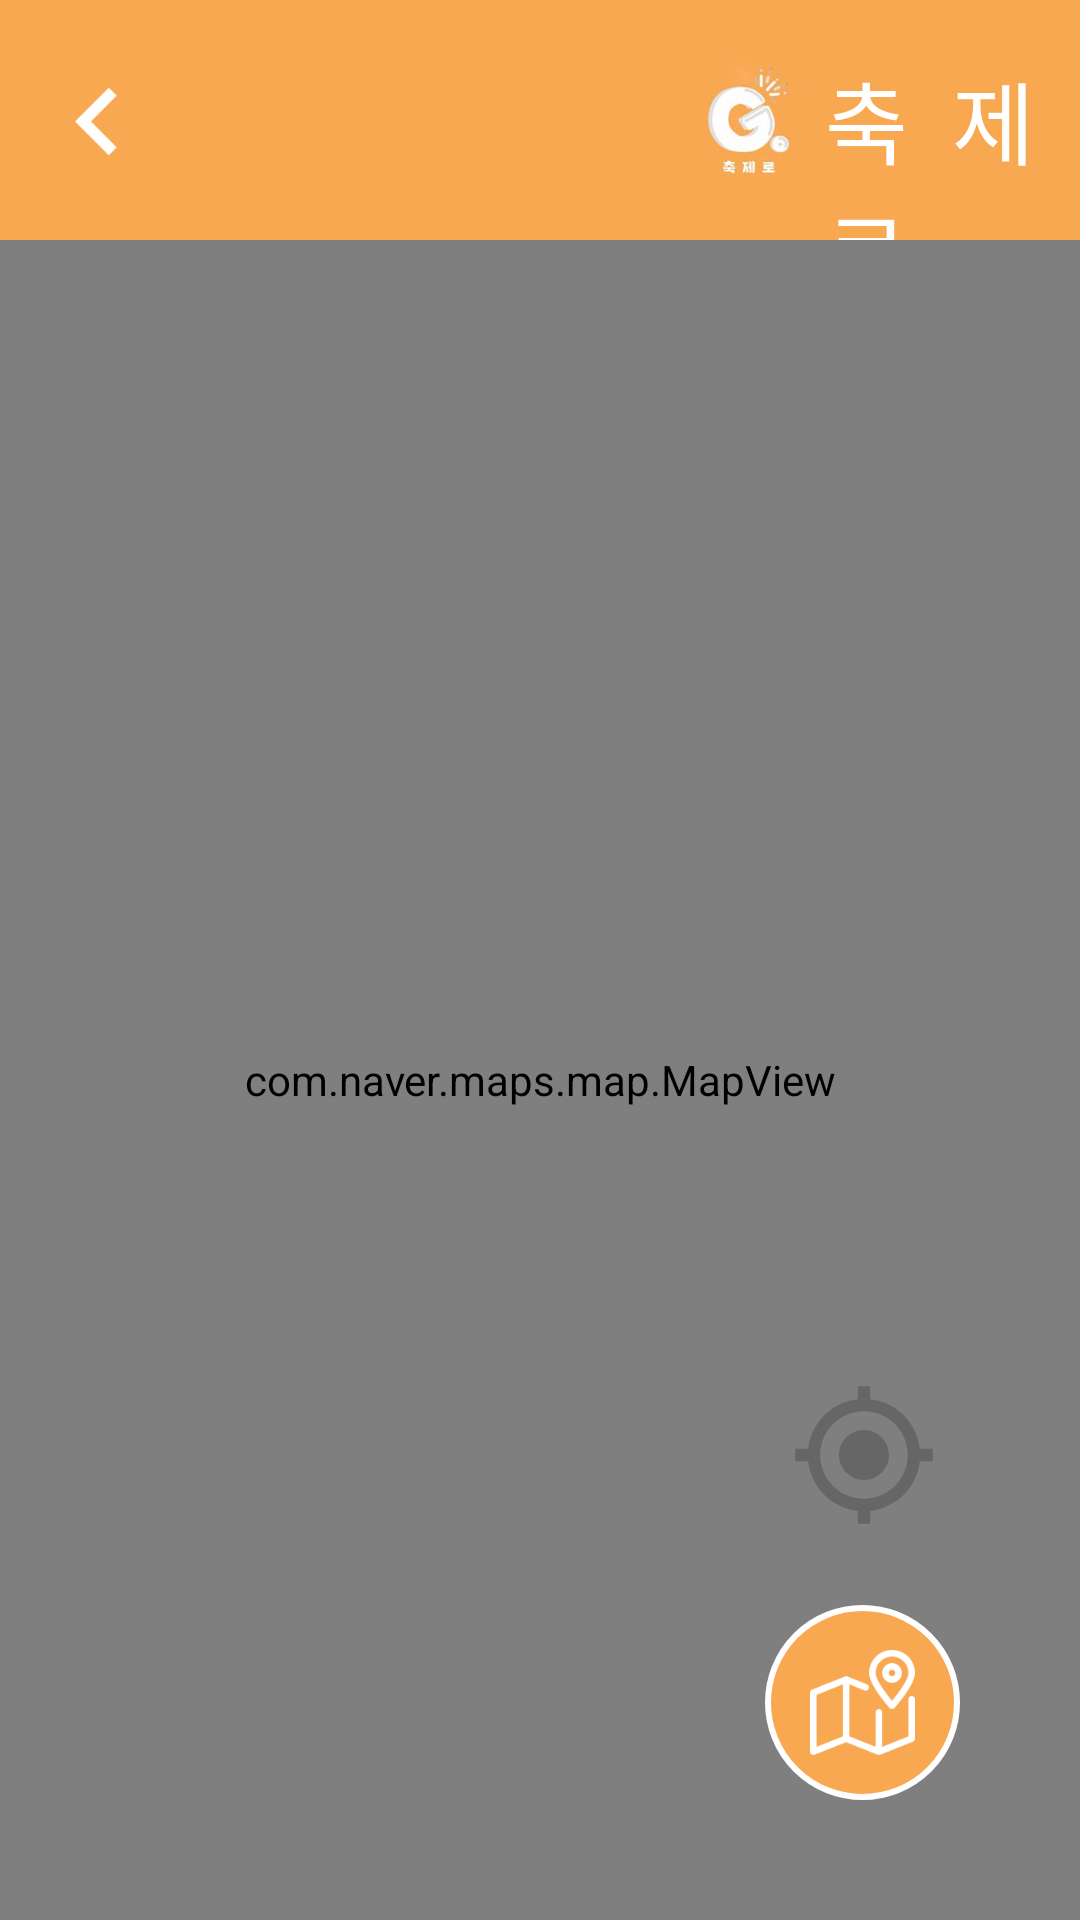

Locate icon controls on the screen. Image size 1080 × 1920, boxes as rect(x1, y1, x2, y2).
gps fixed: rect(796, 1387, 932, 1523)
mapdirection: rect(765, 1605, 960, 1800)
navigate before: rect(75, 88, 117, 155)
